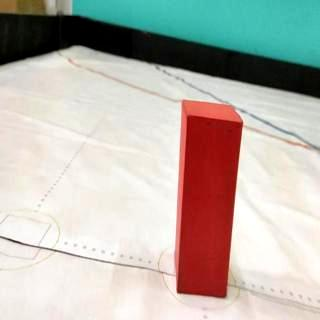redbox: (174, 98, 243, 298)
